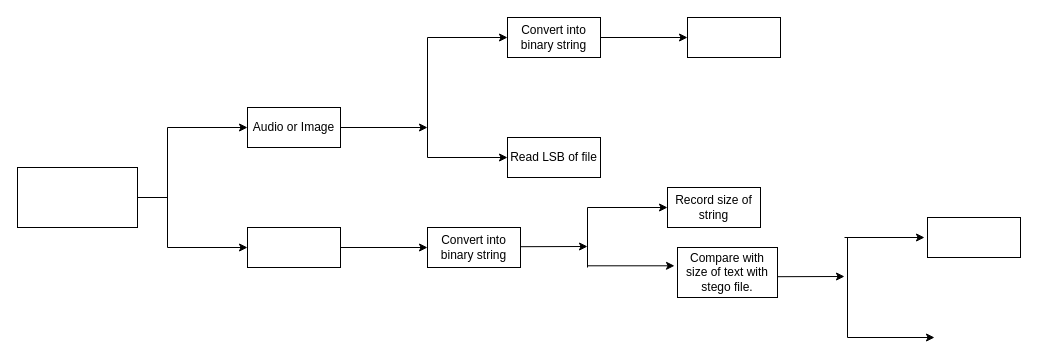
Some shapes in this 1038 by 363 pixel diagram are drawn without their labels. The centre of each missing label's shape, as x and y in pixels:
Ask for input of 2 files: the point at 77,197
Record the size of string: the point at 733,37
Text File: the point at 293,247
